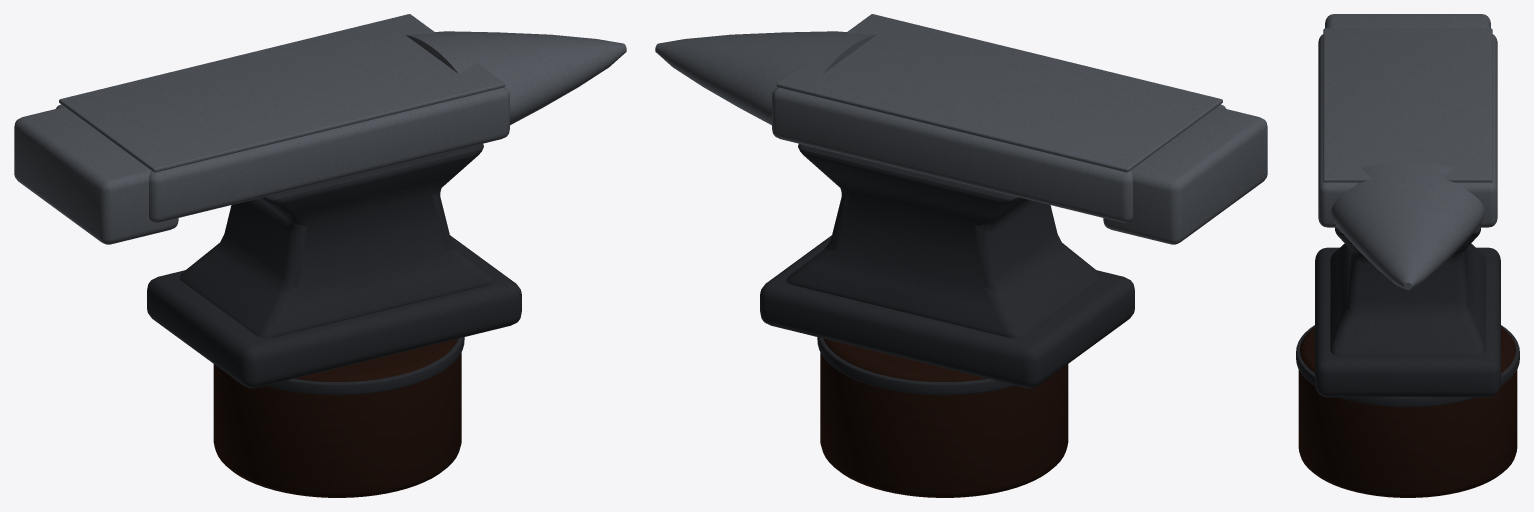
File: anvil.glb
The picture shows the model from 3 angles, left to right: view 1: azimuth 30°, elevation 25°; view 2: azimuth 150°, elevation 25°; view 3: azimuth 270°, elevation 25°; orthographic projection. The views are drawn at different scales.
Visible parts, largest first — view 1: anvil; view 2: anvil; view 3: anvil.
Part boxes in pixels (x1=…): anvil: x1=14, y1=14, x2=626, y2=497; anvil: x1=655, y1=14, x2=1267, y2=497; anvil: x1=1296, y1=14, x2=1519, y2=497.
Bounding box in the file's own units: 3.48 × 2.22 × 1.35.
3 materials, 3 textured.
